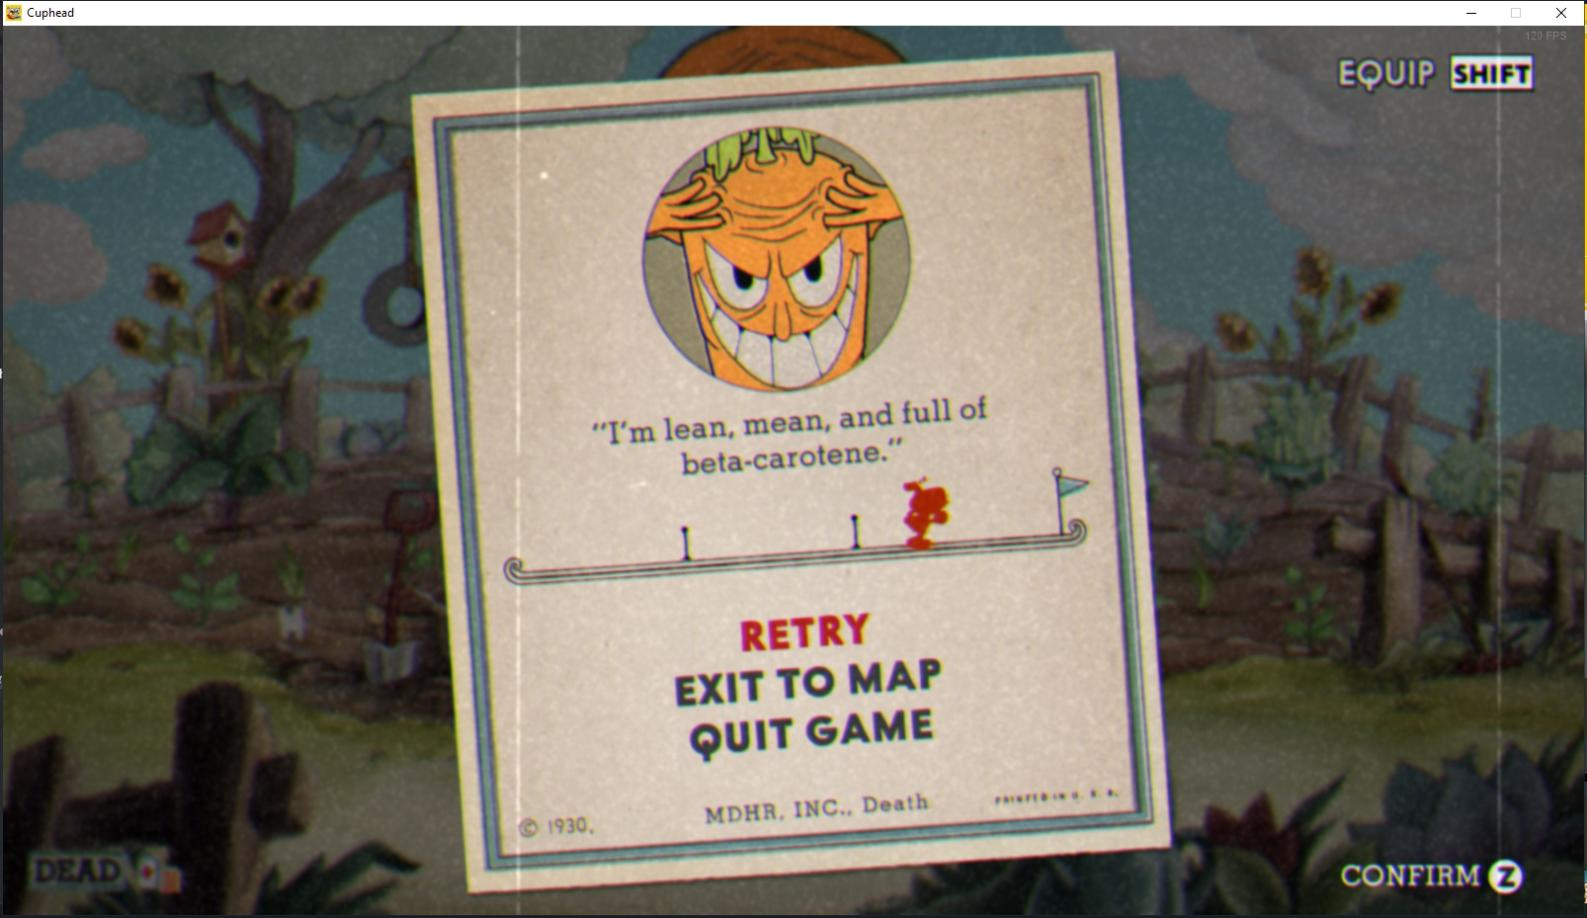carrot_icon: (637, 116, 919, 399)
player_progress: (892, 467, 957, 554)
